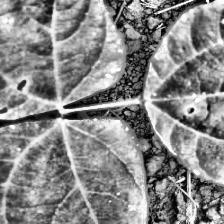ALS: (0, 118, 144, 224), (0, 0, 123, 119), (146, 1, 224, 184)
